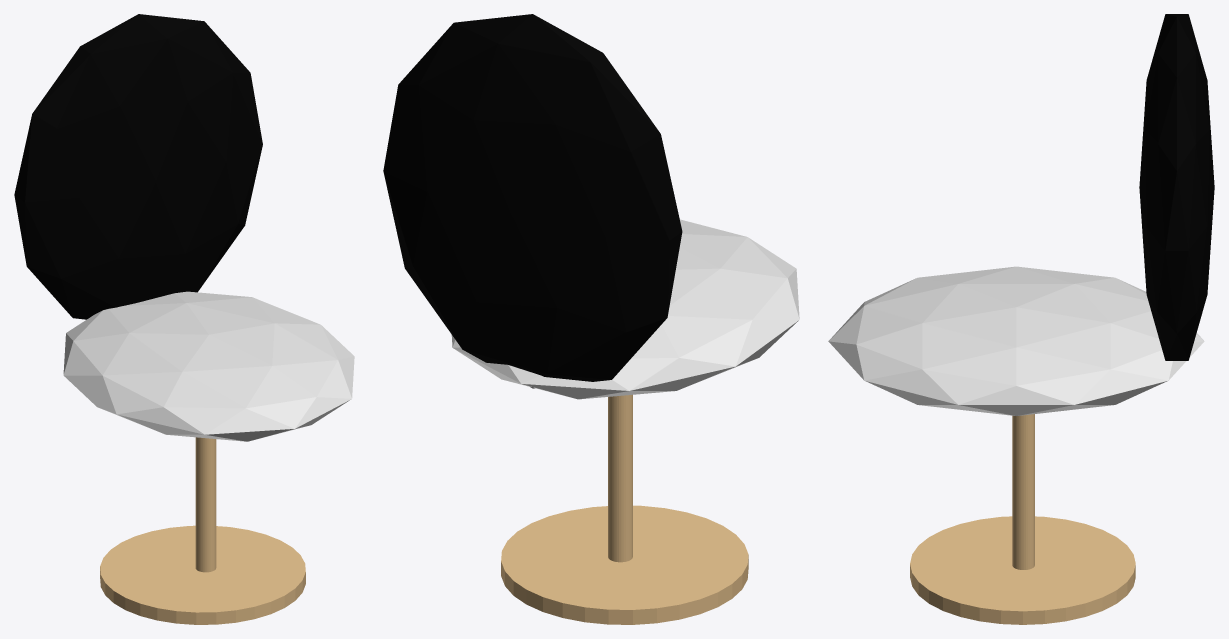
3 renders of one model, left to right at view 1: azimuth 30°, elevation 25°; view 2: azimuth 150°, elevation 25°; view 3: azimuth 270°, elevation 25°, orthographic. The views are drawn at different scales.
Visible parts, largest first — view 1: Icosphere, Icosphere.001, Cylinder.001, Cylinder; view 2: Icosphere, Cylinder.001, Icosphere.001, Cylinder; view 3: Icosphere.001, Icosphere, Cylinder.001, Cylinder.
Part boxes in pixels (left/top/right/bottom): Icosphere: left=14, top=14, right=262, bottom=319; Icosphere.001: left=63, top=291, right=354, bottom=441; Cylinder.001: left=100, top=525, right=305, bottom=624; Cylinder: left=195, top=437, right=216, bottom=572; Icosphere: left=383, top=14, right=682, bottom=388; Cylinder.001: left=501, top=505, right=748, bottom=624; Icosphere.001: left=451, top=219, right=799, bottom=399; Cylinder: left=608, top=394, right=632, bottom=562; Icosphere.001: left=828, top=266, right=1204, bottom=415; Icosphere: left=1139, top=14, right=1214, bottom=360; Cylinder.001: left=910, top=516, right=1135, bottom=624; Cylinder: left=1012, top=414, right=1034, bottom=569.
Bounding box in the file's own units: 0.4049 × 0.8261 × 0.5133.
